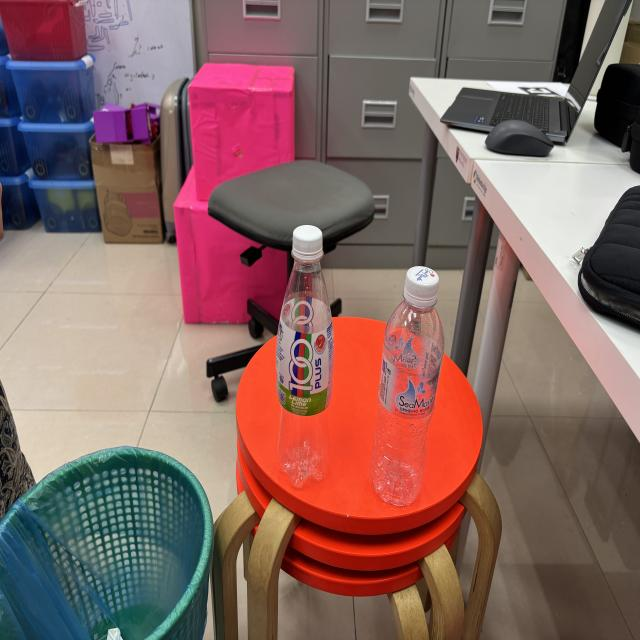dustbin: (0, 437, 222, 640)
plastic_bottle: (264, 212, 351, 497), (362, 256, 451, 516)
